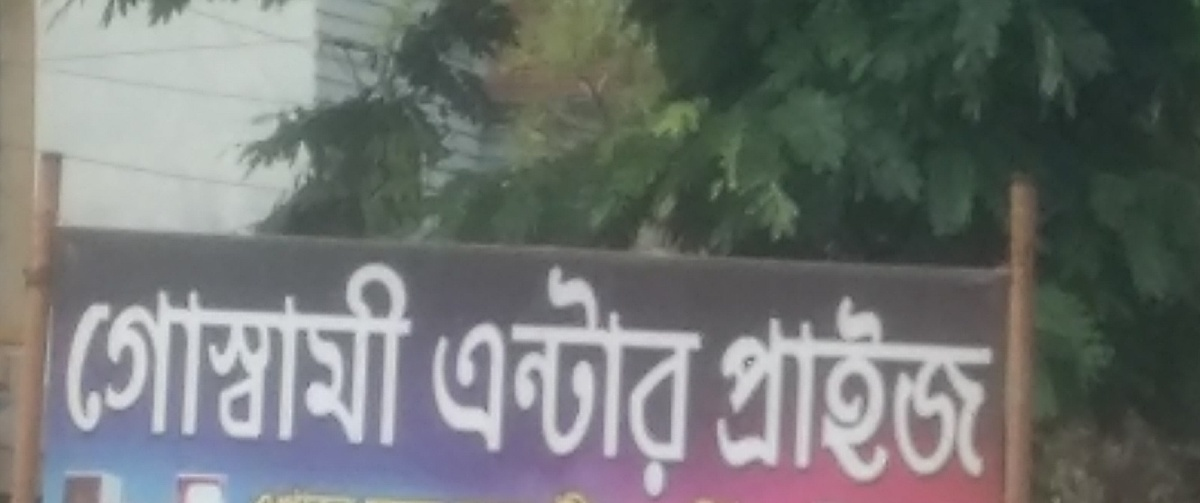text: (433, 260, 448, 502), (449, 260, 464, 502), (465, 260, 480, 502), (481, 260, 496, 502), (497, 260, 512, 502), (513, 260, 528, 502), (529, 260, 544, 502), (545, 260, 560, 502), (561, 260, 576, 502), (577, 260, 592, 502), (593, 260, 608, 502), (609, 260, 624, 502), (625, 260, 640, 502), (641, 260, 656, 502), (657, 260, 672, 502), (673, 260, 688, 502), (689, 260, 704, 502), (81, 250, 96, 461), (97, 250, 112, 461), (113, 250, 128, 461), (129, 250, 144, 461), (145, 250, 160, 461), (161, 250, 176, 461), (177, 250, 192, 461), (193, 250, 208, 461), (209, 250, 224, 461), (225, 250, 240, 461), (241, 250, 256, 461), (257, 250, 272, 461), (273, 250, 288, 461), (289, 250, 304, 461), (305, 250, 320, 461), (321, 250, 336, 461), (337, 250, 352, 461), (353, 250, 368, 461), (369, 250, 384, 461), (385, 250, 400, 461), (401, 250, 416, 461), (721, 288, 736, 490), (737, 288, 752, 490), (753, 288, 768, 490), (769, 288, 784, 490), (785, 288, 800, 490), (801, 288, 816, 490), (817, 288, 832, 490), (833, 288, 848, 490), (849, 288, 864, 490), (865, 288, 880, 490), (881, 288, 896, 490), (897, 288, 912, 490), (913, 288, 928, 490), (929, 288, 944, 490), (945, 288, 960, 490), (961, 288, 976, 490), (977, 288, 992, 490), (67, 250, 80, 461), (993, 288, 1004, 490), (417, 250, 424, 461), (713, 288, 720, 490), (705, 260, 708, 502)
